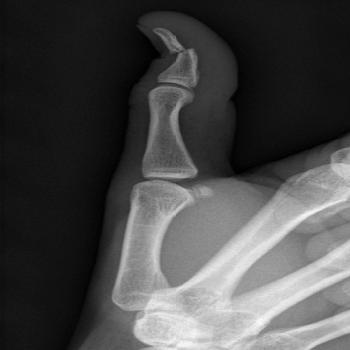Fracture: (165, 41, 201, 58)
